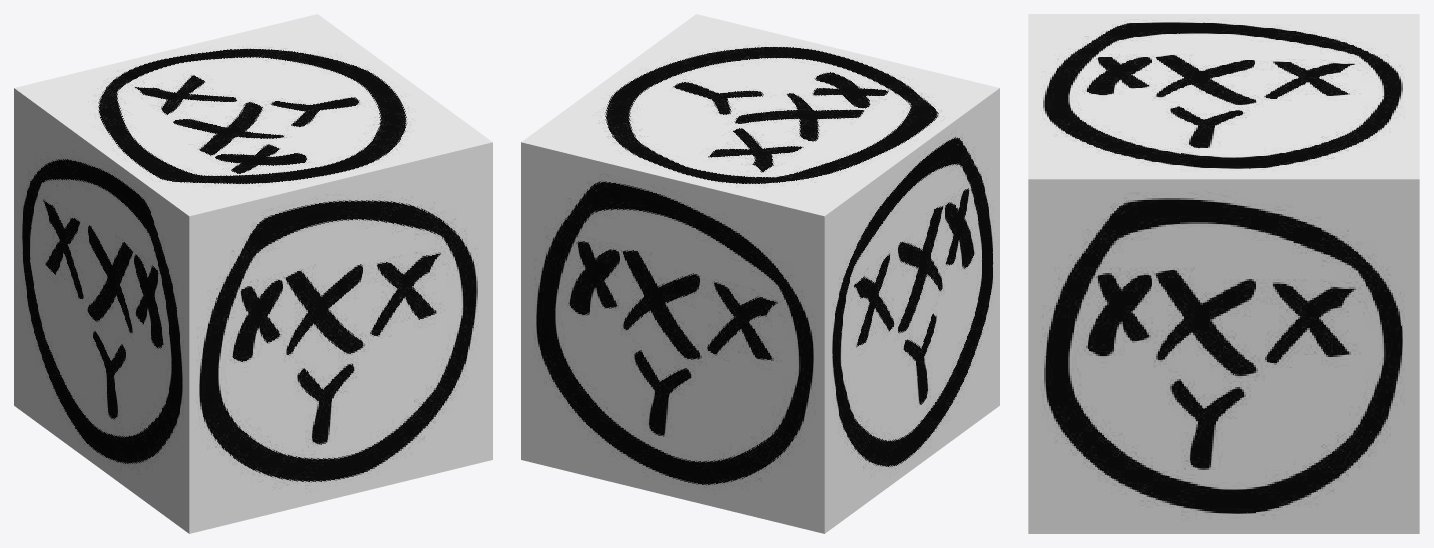
The model's file is oxycube.glb.
3 views of the same model, side by side, from view 1: azimuth 30°, elevation 25°; view 2: azimuth 150°, elevation 25°; view 3: azimuth 270°, elevation 25° (orthographic). The views are drawn at different scales.
Visible parts, largest first — view 1: Cube.Node; view 2: Cube.Node; view 3: Cube.Node.
Part boxes in pixels (<box>): Cube.Node: <box>14,14,492,533</box>; Cube.Node: <box>521,14,999,533</box>; Cube.Node: <box>1028,14,1419,533</box>.
Size of the model in its own units: 2 by 2 by 2.
Materials: 1 (1 with a texture image).
